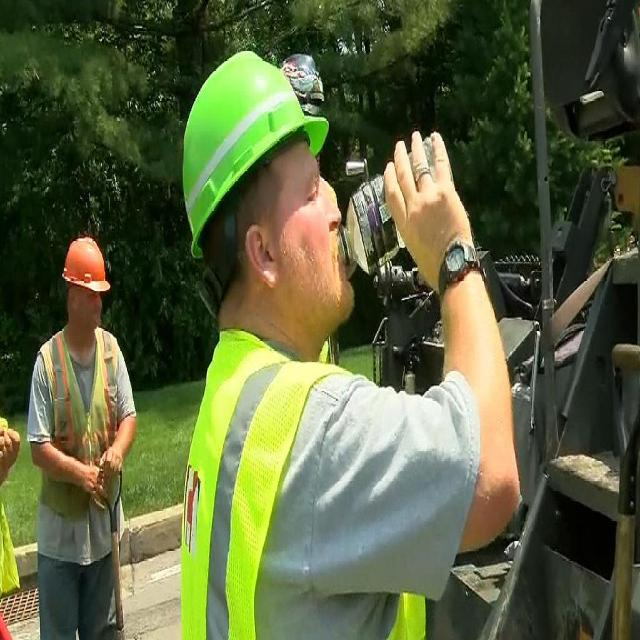Reflective-Jacket: (178, 321, 384, 639), (29, 323, 130, 551)
Safety-Helmet: (177, 48, 328, 244), (60, 229, 112, 298)
